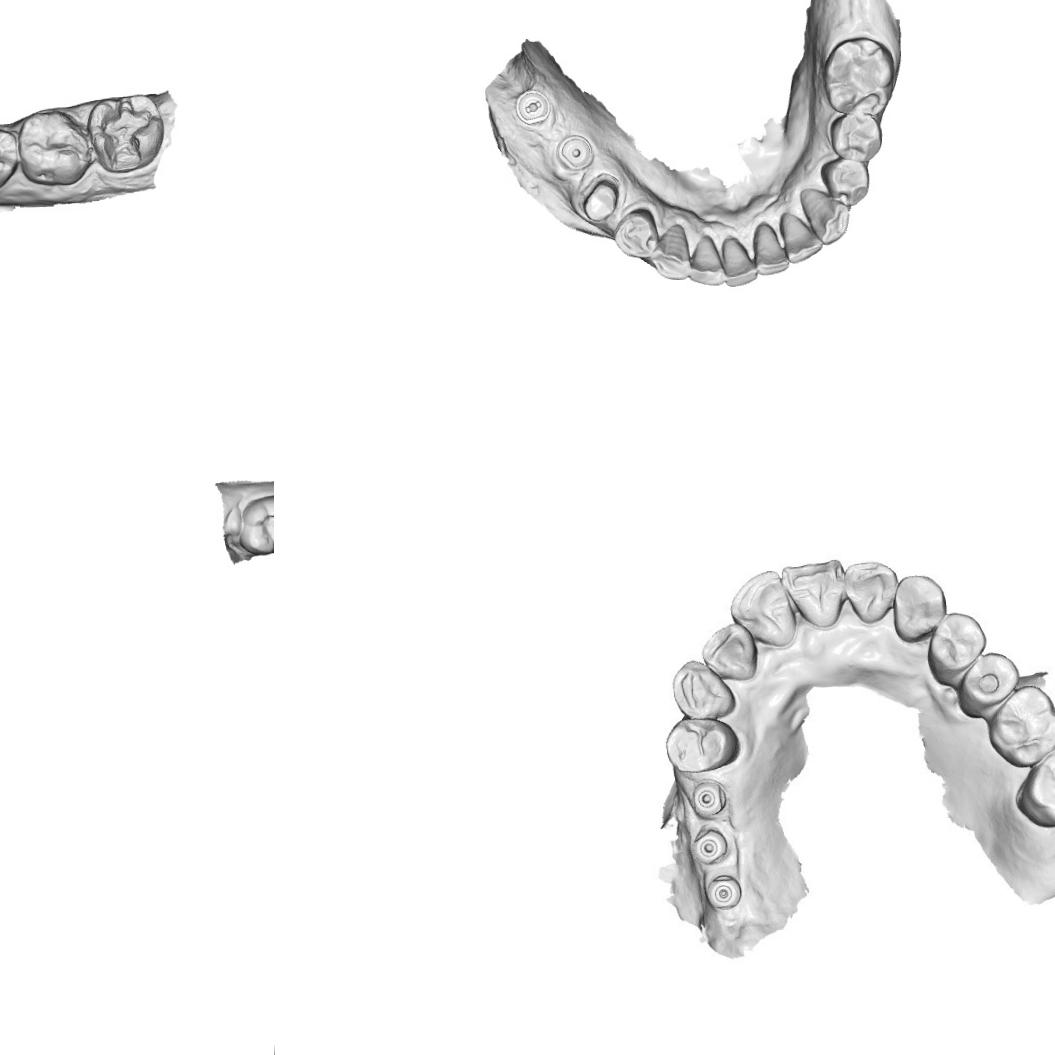canine: (887, 570, 945, 647), (668, 658, 736, 723), (800, 186, 852, 246), (648, 222, 691, 282)
crown: (577, 172, 623, 223)
implant: (690, 824, 732, 868), (706, 867, 744, 912), (690, 778, 726, 816), (558, 134, 593, 169)
implant_minus: (514, 88, 552, 126)
incisor: (728, 569, 798, 652), (780, 556, 848, 638), (839, 558, 899, 628), (696, 622, 760, 683), (778, 210, 824, 264), (751, 222, 791, 276), (688, 234, 727, 288), (722, 235, 761, 288)
inlay: (96, 98, 158, 171)
molar: (821, 35, 897, 118), (985, 684, 1055, 769), (16, 108, 92, 186), (1010, 745, 1055, 833), (236, 492, 274, 558)
premolar: (664, 713, 740, 778), (963, 650, 1018, 712), (934, 615, 984, 675), (829, 112, 883, 163), (610, 207, 660, 262), (820, 157, 871, 208), (0, 125, 20, 193)
